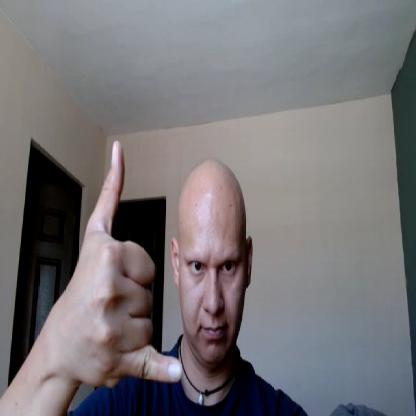Y: (60, 136, 186, 386)
